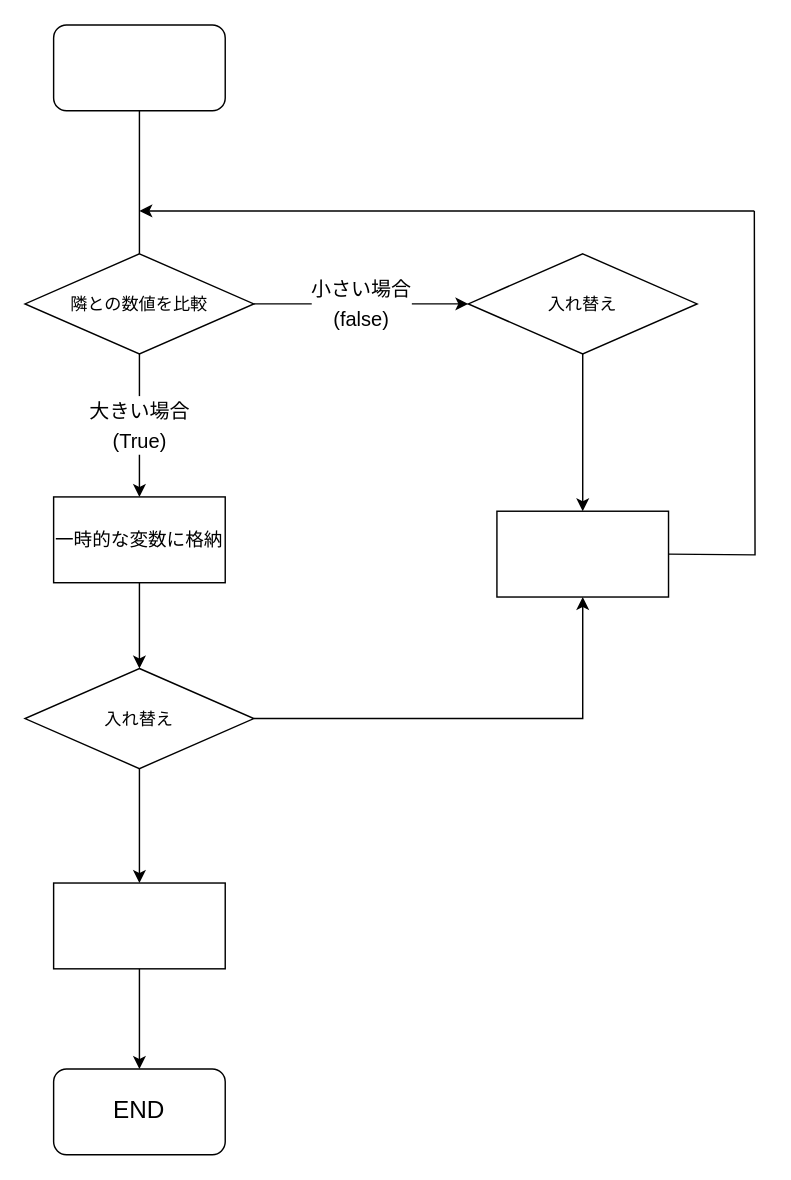
This 791x1180 diagram has some shape labels left out. Each missing label, with the box of its shape:
START: (52, 24, 225, 111)
出力: (52, 882, 225, 969)
配列に格納されて いる個数分ループ: (495, 510, 669, 597)
